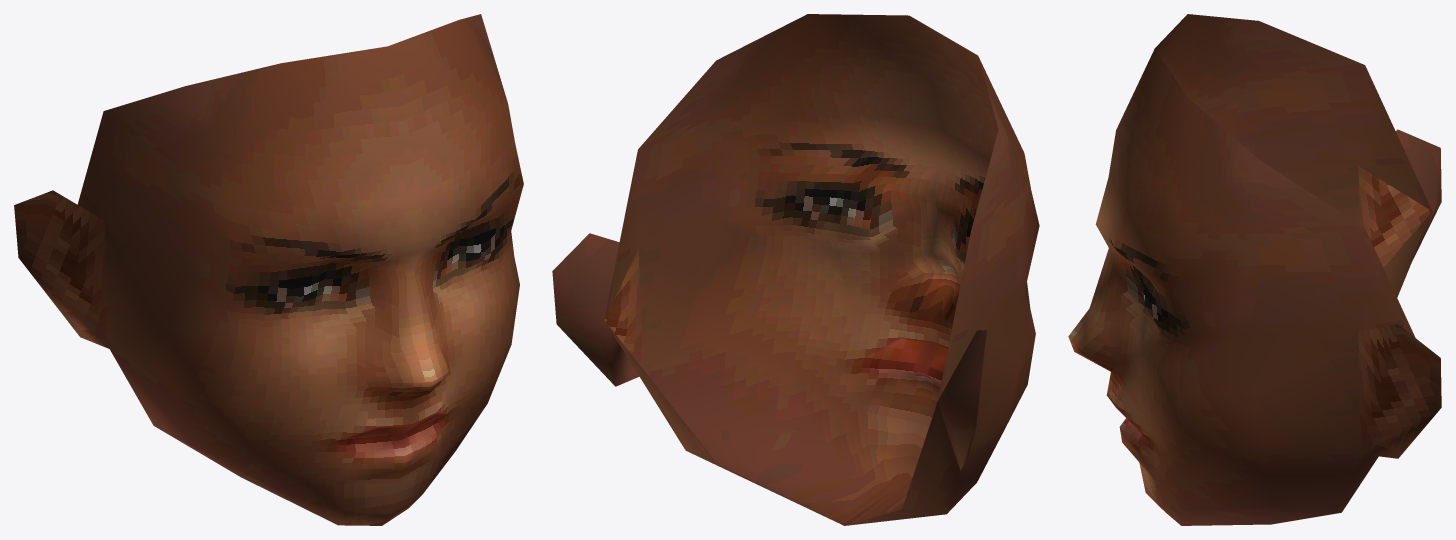
The picture shows the model from 3 angles, left to right: view 1: azimuth 30°, elevation 25°; view 2: azimuth 150°, elevation 25°; view 3: azimuth 270°, elevation 25°; orthographic projection. The views are drawn at different scales.
Parts seen in each view (by area): view 1: editpl_f-0000-1832, editpl_f-0000-1831; view 2: editpl_f-0000-1832, editpl_f-0000-1831; view 3: editpl_f-0000-1832, editpl_f-0000-1831.
Part boxes in pixels (box(x1,y1,x2,y2)): editpl_f-0000-1832: box(14, 14, 523, 411); editpl_f-0000-1831: box(104, 221, 511, 525); editpl_f-0000-1832: box(552, 14, 1039, 470); editpl_f-0000-1831: box(604, 248, 1035, 525); editpl_f-0000-1832: box(1068, 14, 1441, 458); editpl_f-0000-1831: box(1068, 166, 1432, 525).
Bounding box in the file's own units: 19.4 × 20.03 × 14.57.
